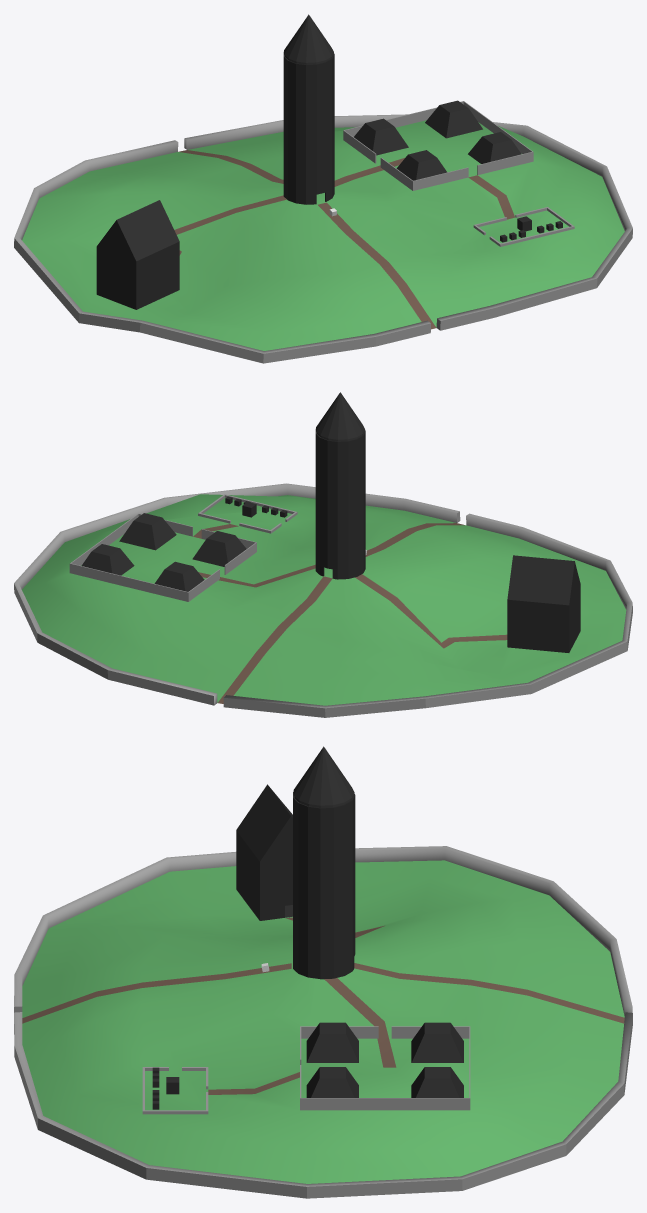
The model's file is Whitebox Monastery Level.glb.
3 views of the same model, one above another, from view 1: azimuth 30°, elevation 25°; view 2: azimuth 150°, elevation 25°; view 3: azimuth 270°, elevation 25° (orthographic). The views are drawn at different scales.
Parts seen in each view (by area): view 1: Ground, Outer walls, Round tower, Oratory, Beehive Cells, BH walls, Graveyard perimiter, graveyard; view 2: Ground, Outer walls, Round tower, Oratory, Beehive Cells, BH walls, Graveyard perimiter, graveyard; view 3: Ground, Outer walls, Round tower, Beehive Cells, Oratory, BH walls, Graveyard perimiter.
Part boxes in pixels (x1,y1,x2,y2): Ground: (22, 120, 624, 350); Outer walls: (14, 114, 632, 363); Round tower: (283, 14, 334, 204); Oratory: (96, 200, 179, 309); Beehive Cells: (354, 100, 521, 180); BH walls: (343, 101, 533, 190); Graveyard perimiter: (473, 207, 574, 246); graveyard: (500, 216, 562, 242); Ground: (22, 494, 626, 705); Outer walls: (14, 483, 632, 717); Round tower: (315, 392, 365, 579); Oratory: (507, 555, 580, 652); Beehive Cells: (81, 513, 246, 591); BH walls: (69, 513, 256, 601); Graveyard perimiter: (198, 494, 297, 533); graveyard: (225, 496, 287, 517); Ground: (22, 860, 624, 1183); Outer walls: (14, 846, 632, 1198); Round tower: (293, 746, 355, 979); Beehive Cells: (306, 1022, 463, 1097); Oratory: (236, 784, 292, 920); BH walls: (300, 1026, 470, 1110); Graveyard perimiter: (142, 1067, 208, 1114).
Bounding box in the file's own units: 119 × 48 × 94.46.
